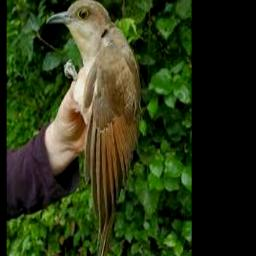Cuckoo: (46, 0, 142, 256)
